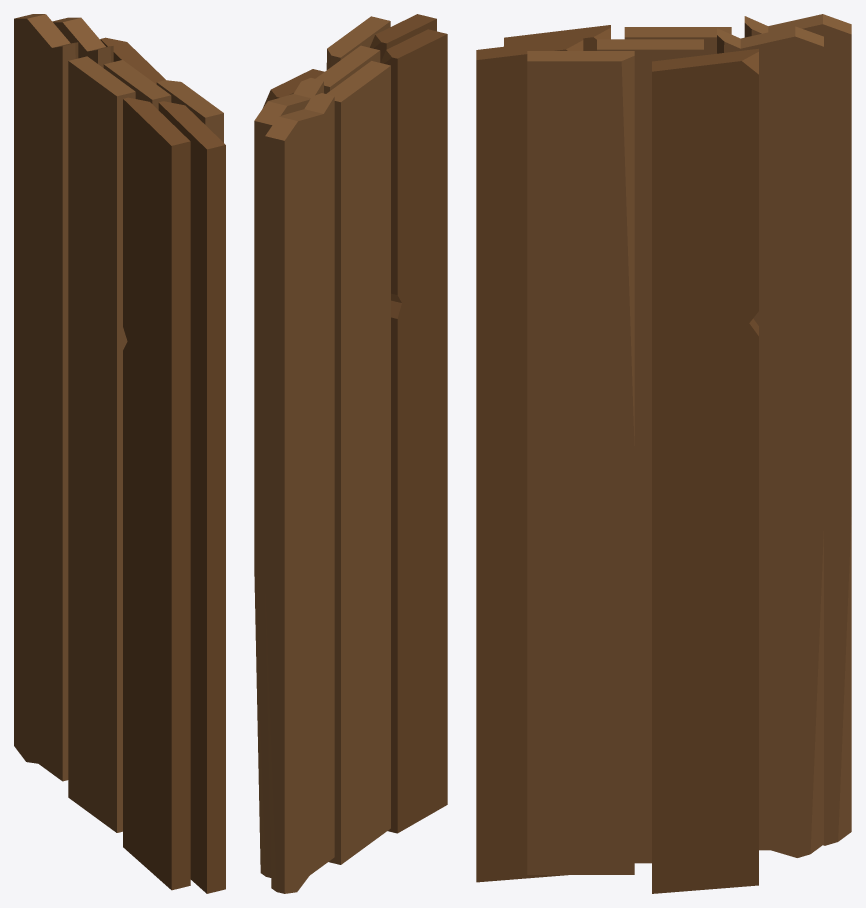
File: WoodsBroke.fbx
The picture shows the model from 3 angles, left to right: view 1: azimuth 30°, elevation 25°; view 2: azimuth 150°, elevation 25°; view 3: azimuth 270°, elevation 25°; orthographic projection. The views are drawn at different scales.
Parts seen in each view (by area): view 1: Woods_fracturepart11_6, Woods_fracturepart18_3, Woods_fracturepart16_6, Woods_fracturepart17_5, Woods_fracturepart18, Woods_fracturepart13_6, Woods_fracturepart11_3, Woods_fracturepart6_6, Woods_fracturepart2_4, Woods_fracturepart16_7, Woods_fracturepart11_7, Woods_fracturepart6_7 (+30 smaller); view 2: Woods_fracturepart17_5, Woods_fracturepart11_6, Woods_fracturepart13_6, Woods_fracturepart16_6, Woods_fracturepart15_2, Woods_fracturepart4_3, Woods_fracturepart6_6, Woods_fracturepart19_5, Woods_fracturepart16_7, Woods_fracturepart11_7, Woods_fracturepart18_3, Woods_fracturepart2_4 (+30 smaller); view 3: Woods_fracturepart11_5, Woods_fracturepart16_5, Woods_fracturepart13_3, Woods_fracturepart7_4, Woods_fracturepart6_5, Woods_fracturepart13, Woods_fracturepart11_3, Woods_fracturepart18, Woods_fracturepart8_3, Woods_fracturepart17, Woods_fracturepart14_4, Woods_fracturepart6_4 (+43 smaller).
Boxes of the visible parts, x1=… form: Woods_fracturepart11_6: x1=123, y1=679, x2=190, y2=890; Woods_fracturepart18_3: x1=133, y1=371, x2=190, y2=581; Woods_fracturepart16_6: x1=123, y1=518, x2=190, y2=684; Woods_fracturepart17_5: x1=14, y1=103, x2=68, y2=281; Woods_fracturepart18: x1=190, y1=362, x2=225, y2=602; Woods_fracturepart13_6: x1=14, y1=601, x2=68, y2=765; Woods_fracturepart11_3: x1=190, y1=678, x2=225, y2=893; Woods_fracturepart6_6: x1=123, y1=97, x2=190, y2=231; Woods_fracturepart2_4: x1=123, y1=264, x2=190, y2=409; Woods_fracturepart16_7: x1=68, y1=505, x2=122, y2=672; Woods_fracturepart11_7: x1=68, y1=680, x2=122, y2=832; Woods_fracturepart6_7: x1=68, y1=62, x2=135, y2=199; Woods_fracturepart17_5: x1=265, y1=167, x2=334, y2=381; Woods_fracturepart11_6: x1=388, y1=592, x2=447, y2=833; Woods_fracturepart13_6: x1=268, y1=684, x2=334, y2=893; Woods_fracturepart16_6: x1=391, y1=466, x2=447, y2=659; Woods_fracturepart15_2: x1=265, y1=443, x2=322, y2=603; Woods_fracturepart4_3: x1=265, y1=94, x2=334, y2=228; Woods_fracturepart6_6: x1=380, y1=29, x2=447, y2=166; Woods_fracturepart19_5: x1=265, y1=340, x2=334, y2=480; Woods_fracturepart16_7: x1=334, y1=501, x2=390, y2=661; Woods_fracturepart11_7: x1=329, y1=670, x2=390, y2=864; Woods_fracturepart18_3: x1=408, y1=268, x2=447, y2=484; Woods_fracturepart2_4: x1=391, y1=162, x2=447, y2=365; Woods_fracturepart11_5: x1=527, y1=677, x2=634, y2=874; Woods_fracturepart16_5: x1=527, y1=516, x2=634, y2=682; Woods_fracturepart13_3: x1=652, y1=659, x2=758, y2=866; Woods_fracturepart7_4: x1=531, y1=354, x2=634, y2=534; Woods_fracturepart6_5: x1=527, y1=51, x2=634, y2=177; Woods_fracturepart13: x1=759, y1=641, x2=823, y2=857; Woods_fracturepart11_3: x1=476, y1=649, x2=567, y2=882; Woods_fracturepart18: x1=476, y1=302, x2=527, y2=560; Woods_fracturepart8_3: x1=652, y1=216, x2=758, y2=348; Woods_fracturepart17: x1=759, y1=121, x2=823, y2=296; Woods_fracturepart14_4: x1=652, y1=550, x2=758, y2=698; Woods_fracturepart6_4: x1=652, y1=54, x2=756, y2=182.
Size of the model in its own units: 16.83 by 195 by 78.43.
1 material, 1 textured.
